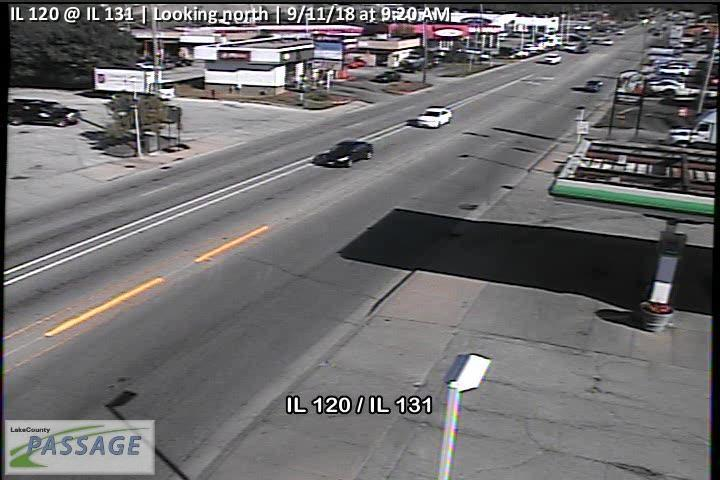SUV: (543, 53, 562, 64)
Sedan: (5, 98, 78, 127), (324, 141, 374, 168), (416, 106, 452, 128), (586, 79, 604, 92)
Truck: (91, 67, 175, 99)
